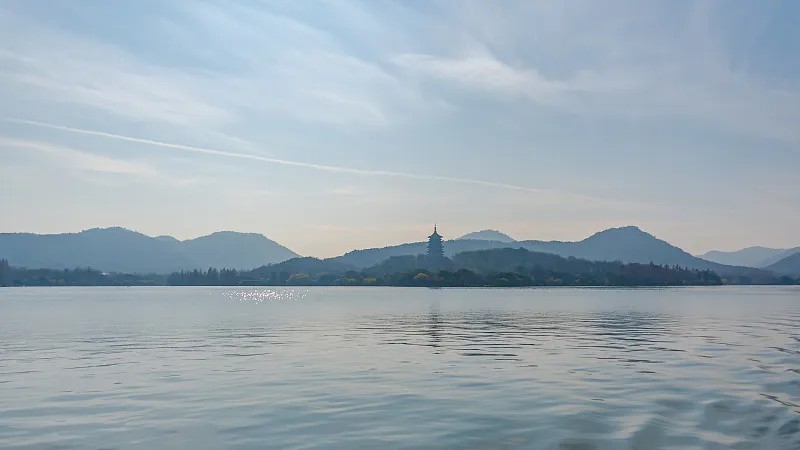Leifeng: (426, 224, 444, 256)
